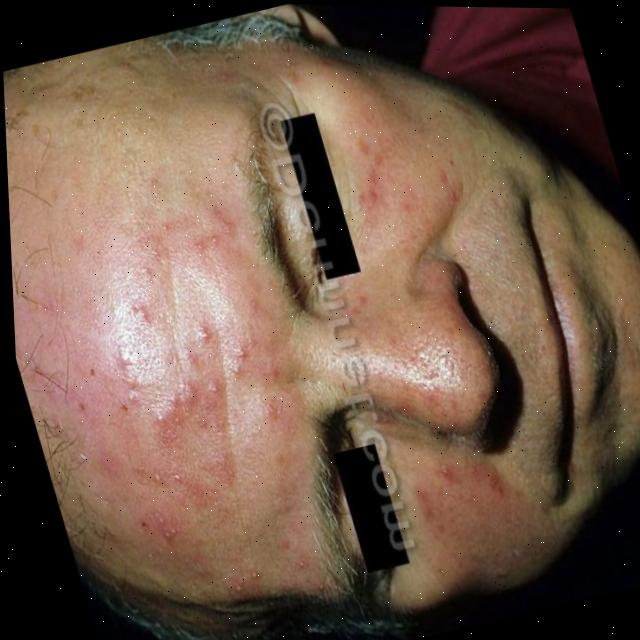Rosacea: (26, 187, 334, 566), (324, 74, 488, 255), (390, 441, 559, 590)
